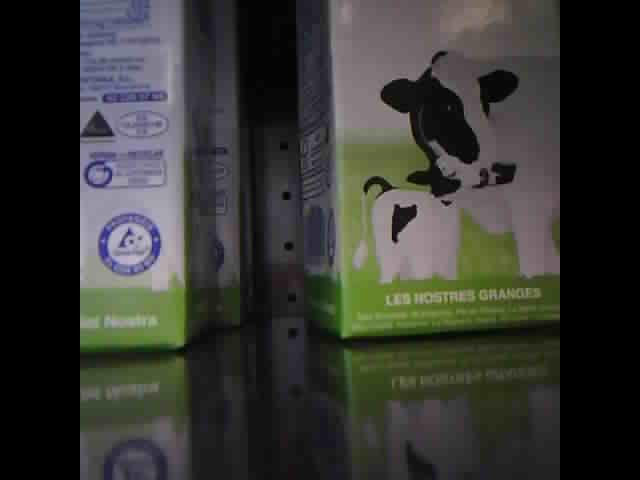leche: (301, 3, 558, 340), (80, 2, 209, 351), (210, 4, 247, 328)
